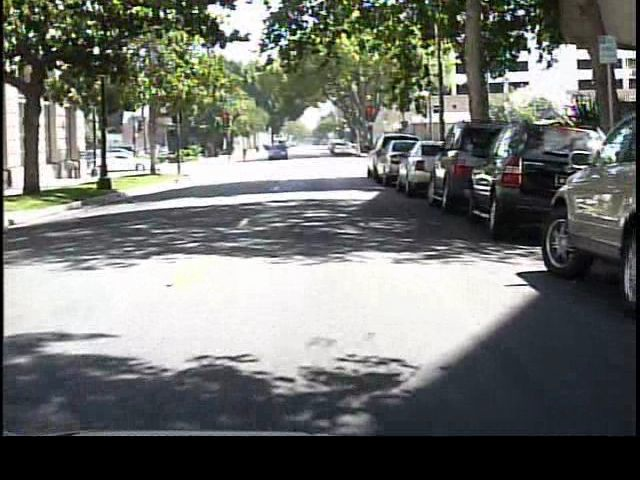person: (238, 142, 251, 164)
